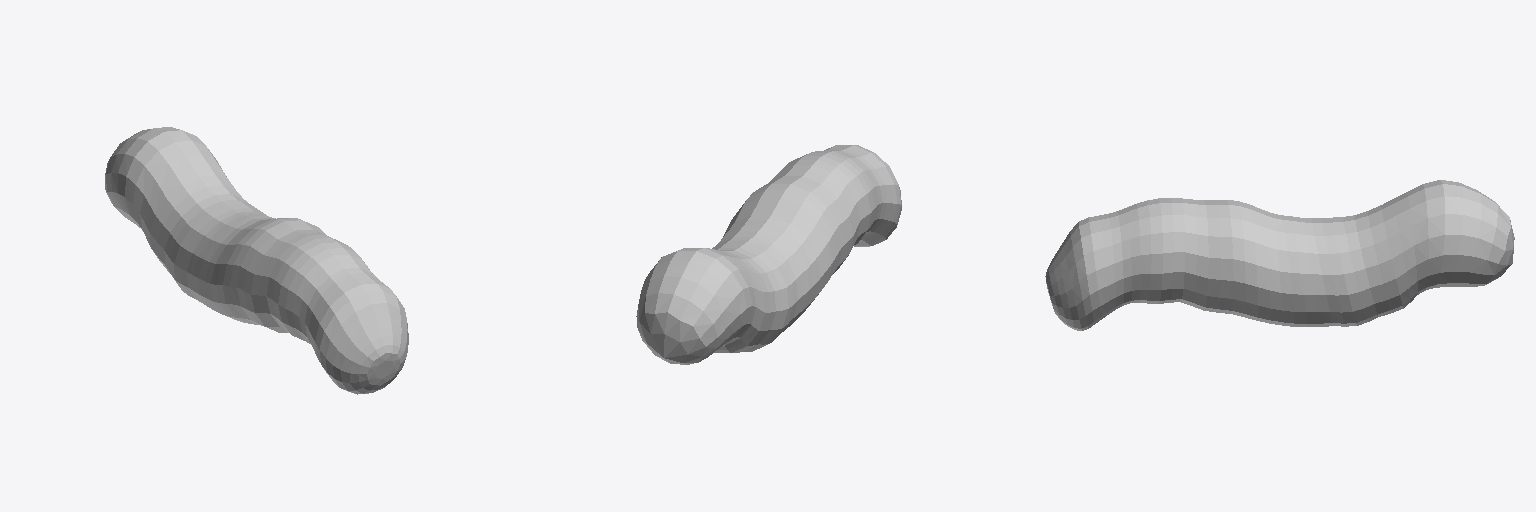
File: WitjutiGrub.obj
3 renders of one model, left to right at view 1: azimuth 30°, elevation 25°; view 2: azimuth 150°, elevation 25°; view 3: azimuth 270°, elevation 25°, orthographic.
Visible parts, largest first — view 1: pCylinder1; view 2: pCylinder1; view 3: pCylinder1.
Boxes of the visible parts, box(x1,y1,x2,y2) form: pCylinder1: box(105, 127, 408, 394); pCylinder1: box(636, 145, 901, 364); pCylinder1: box(1045, 180, 1514, 330).
Size of the model in its own units: 0.2659 by 0.3076 by 0.9746.